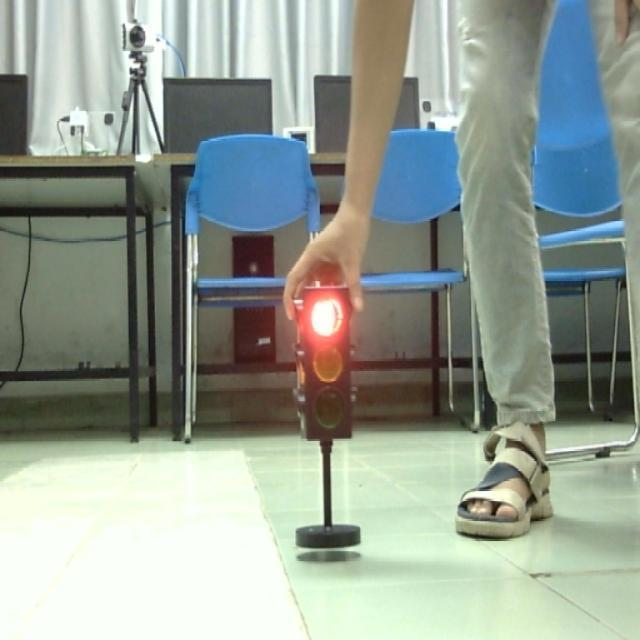red_light: (290, 286, 366, 448)
